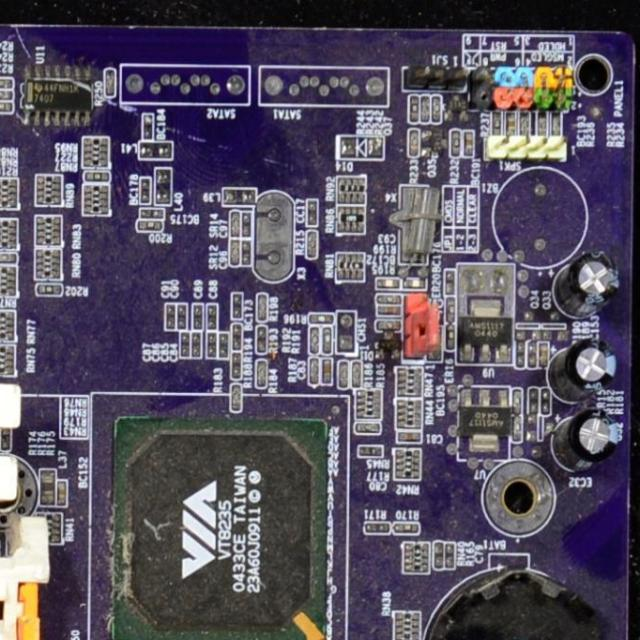IC: (463, 295, 513, 354), (466, 393, 506, 447), (28, 80, 86, 110), (396, 433, 420, 443)
capacitor: (204, 300, 216, 332), (190, 332, 203, 359), (164, 304, 178, 329), (176, 306, 188, 332), (208, 333, 220, 358), (179, 332, 189, 361), (192, 306, 204, 330), (241, 216, 249, 235), (322, 359, 328, 382), (359, 448, 378, 455), (241, 241, 248, 259), (407, 280, 425, 286), (222, 336, 227, 356), (448, 544, 452, 566), (382, 280, 392, 288), (308, 203, 313, 218)
resistor: (136, 216, 162, 233), (255, 292, 268, 324), (448, 126, 460, 158), (365, 520, 392, 534), (394, 522, 422, 534), (0, 76, 15, 90), (257, 328, 266, 349), (525, 394, 535, 412), (357, 425, 382, 432), (0, 90, 14, 102), (435, 544, 443, 564), (109, 68, 115, 94), (259, 362, 266, 383), (513, 393, 521, 411), (43, 286, 59, 294), (323, 330, 328, 350), (540, 114, 546, 130), (492, 112, 497, 130), (314, 316, 329, 322), (310, 360, 314, 382), (411, 101, 416, 118), (553, 115, 558, 132), (514, 420, 519, 437), (412, 132, 416, 152), (312, 330, 316, 350), (235, 328, 239, 347), (342, 365, 346, 384), (1, 431, 6, 446), (235, 356, 239, 374), (434, 101, 438, 118), (542, 396, 546, 413), (522, 116, 526, 132), (380, 320, 396, 324), (356, 363, 359, 382), (0, 106, 11, 111), (235, 388, 238, 406), (381, 296, 394, 300), (425, 102, 428, 118), (310, 234, 312, 255)
transistor: (448, 96, 466, 114)
